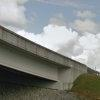Bridge: (4, 19, 79, 84)
